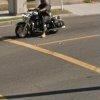Motorcycle: (6, 1, 76, 39)
